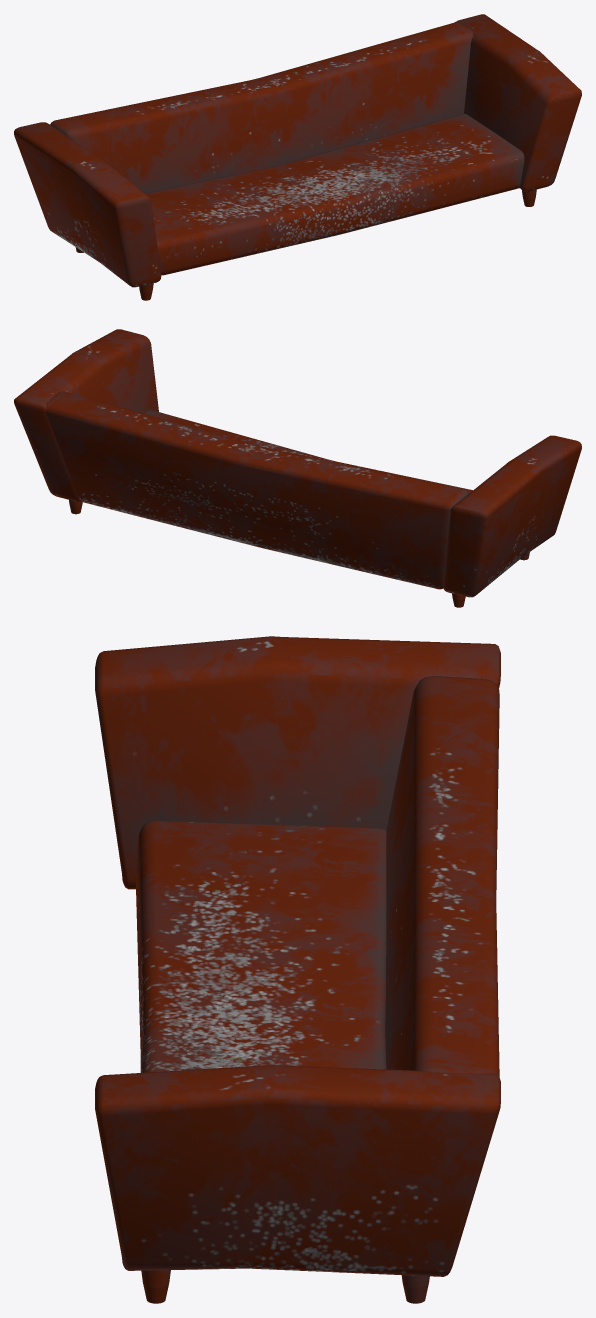
3 views of the same model, one above another, from view 1: azimuth 30°, elevation 25°; view 2: azimuth 150°, elevation 25°; view 3: azimuth 270°, elevation 25° (orthographic). The views are drawn at different scales.
Parts seen in each view (by area): view 1: Cube.002; view 2: Cube.002; view 3: Cube.002.
Part boxes in pixels (box(x1,y1,x2,y2)): Cube.002: box(14, 14, 581, 300); Cube.002: box(14, 329, 581, 607); Cube.002: box(95, 636, 500, 1303).
Bounding box in the file's own units: 298 × 74.7 × 111.
1 material, 1 textured.
